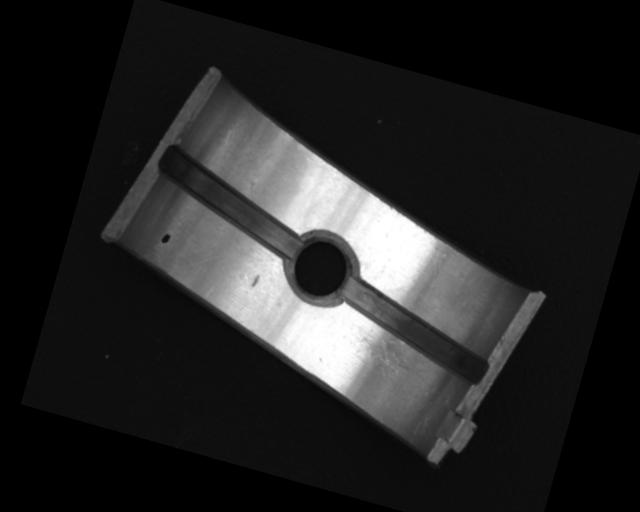blot: (159, 231, 172, 246)
bruise: (250, 273, 261, 288)
gap: (143, 145, 316, 260), (328, 276, 502, 388)
hole: (278, 226, 362, 309)
scratch: (341, 323, 438, 390)
